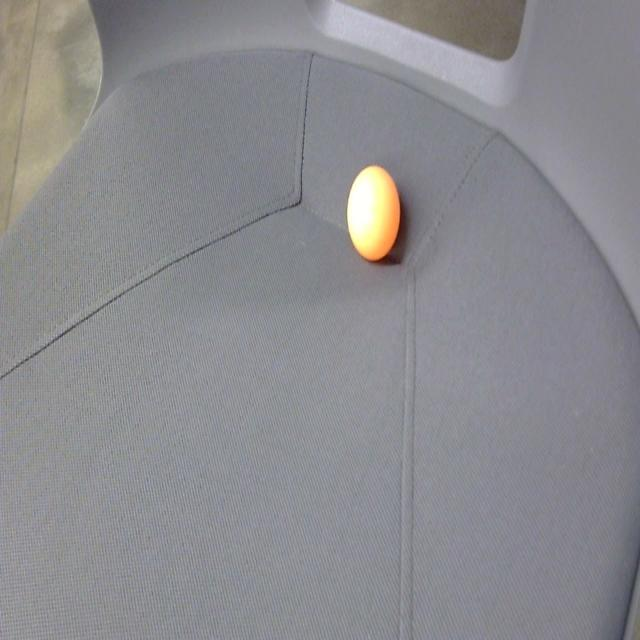ball: (345, 159, 404, 266)
